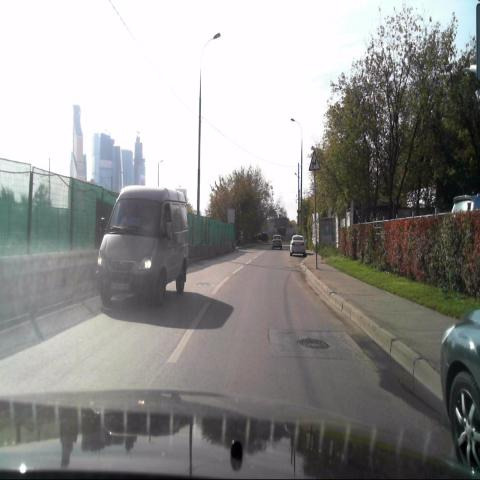1_12: (308, 150, 322, 171)
